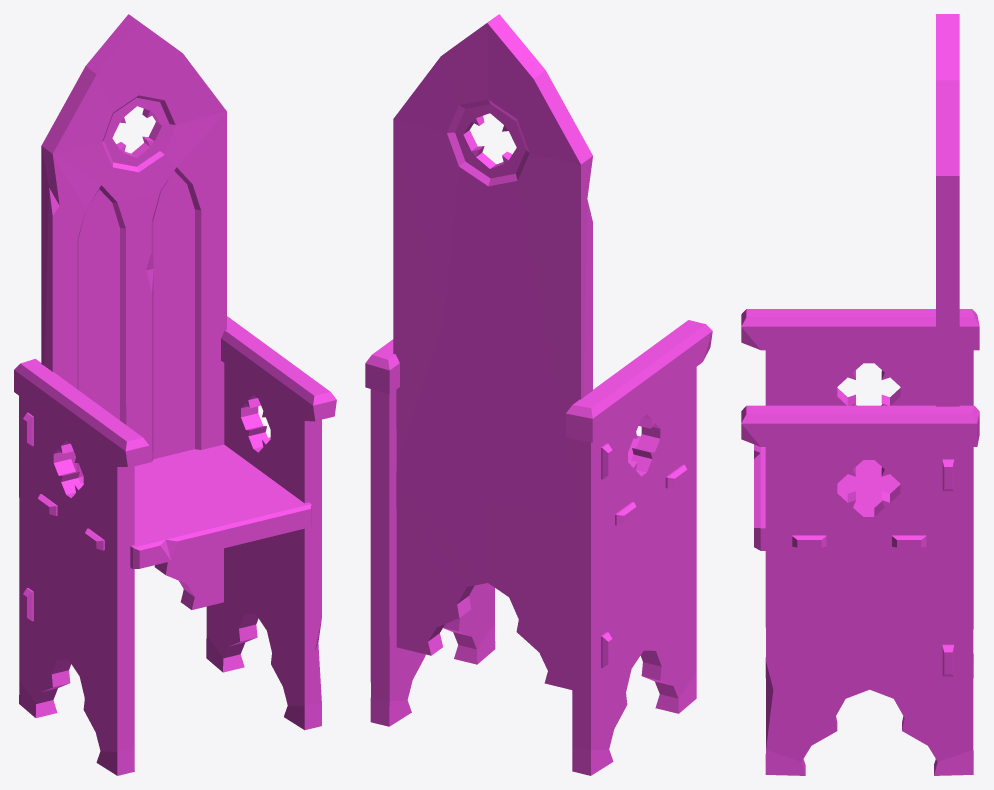
Rendered from SM_Chair_Fancy_A_Fantasy.fbx.
3 views of the same model, side by side, from view 1: azimuth 30°, elevation 25°; view 2: azimuth 150°, elevation 25°; view 3: azimuth 270°, elevation 25° (orthographic). The views are drawn at different scales.
Parts seen in each view (by area): view 1: SM_Chair_Fancy_A_Fantasy; view 2: SM_Chair_Fancy_A_Fantasy; view 3: SM_Chair_Fancy_A_Fantasy.
Boxes of the visible parts, x1,y1,x2,y2 form: SM_Chair_Fancy_A_Fantasy: [14, 14, 336, 775]; SM_Chair_Fancy_A_Fantasy: [365, 14, 712, 775]; SM_Chair_Fancy_A_Fantasy: [741, 14, 979, 775].
Bounding box in the file's own units: 0.4692 × 1.38 × 0.4222.
